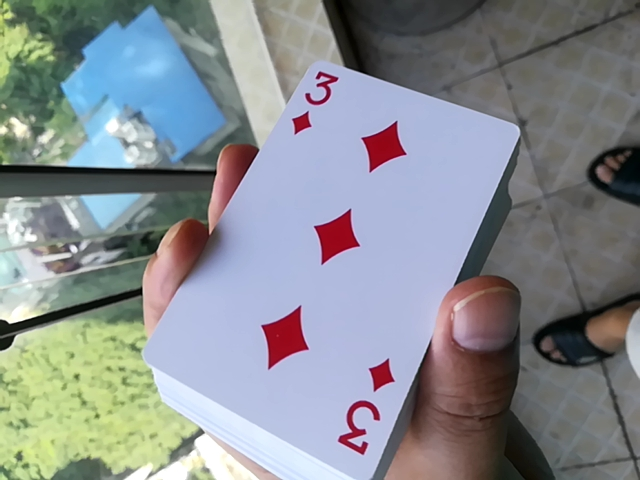fk 3: (141, 57, 503, 478)
